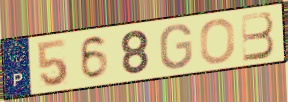5: (35, 37, 70, 88)
6: (78, 34, 111, 81)
8: (119, 29, 152, 76)
B: (239, 10, 277, 63)
G: (159, 23, 194, 71)
O: (199, 17, 237, 65)
